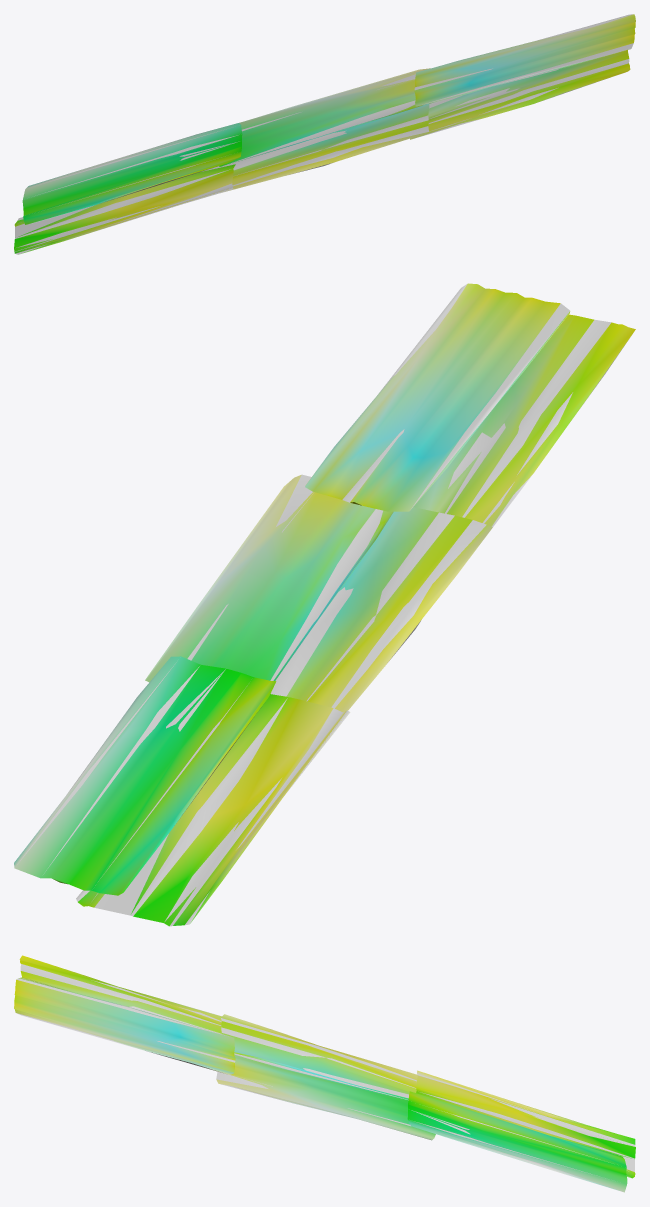
The model's file is SM_MillRoof_NN_08a.FBX.
3 views of the same model, one above another, from view 1: azimuth 90°, elevation 25°; view 2: azimuth 150°, elevation 25°; view 3: azimuth 270°, elevation 25° (orthographic). The views are drawn at different scales.
Parts seen in each view (by area): view 1: SM_MillRoof_NN_08a; view 2: SM_MillRoof_NN_08a; view 3: SM_MillRoof_NN_08a.
Part boxes in pixels (left/top/right/bottom): SM_MillRoof_NN_08a: left=14, top=14, right=635, bottom=254; SM_MillRoof_NN_08a: left=14, top=283, right=635, bottom=926; SM_MillRoof_NN_08a: left=14, top=955, right=635, bottom=1192.
Size of what is drawn, in the model's own units: 218 by 842 by 283.
